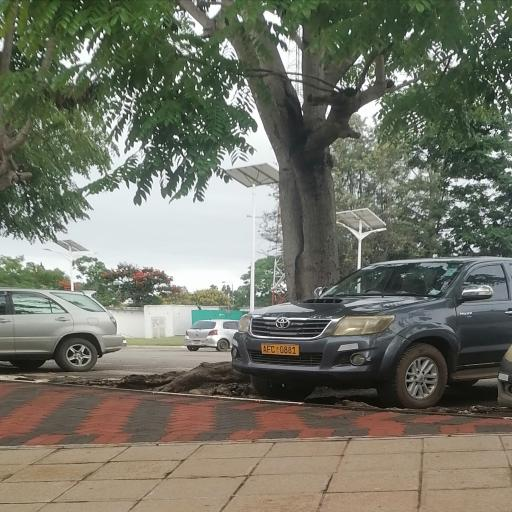number-plates: (259, 340, 298, 358)
